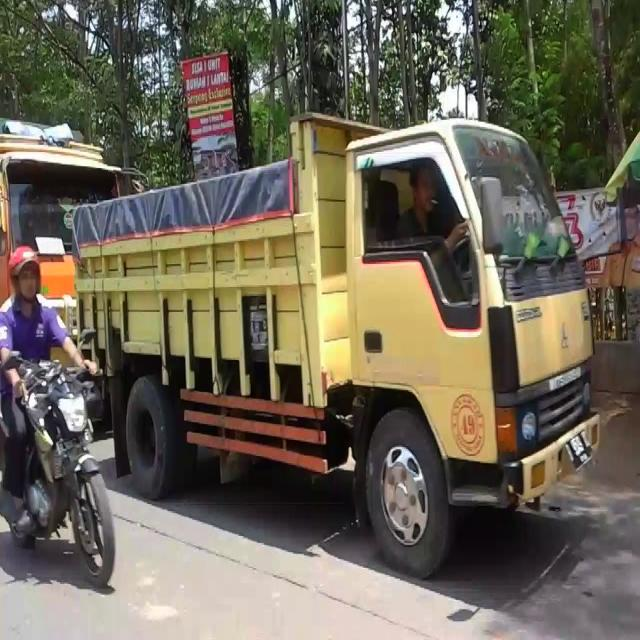truck: (64, 112, 599, 581)
